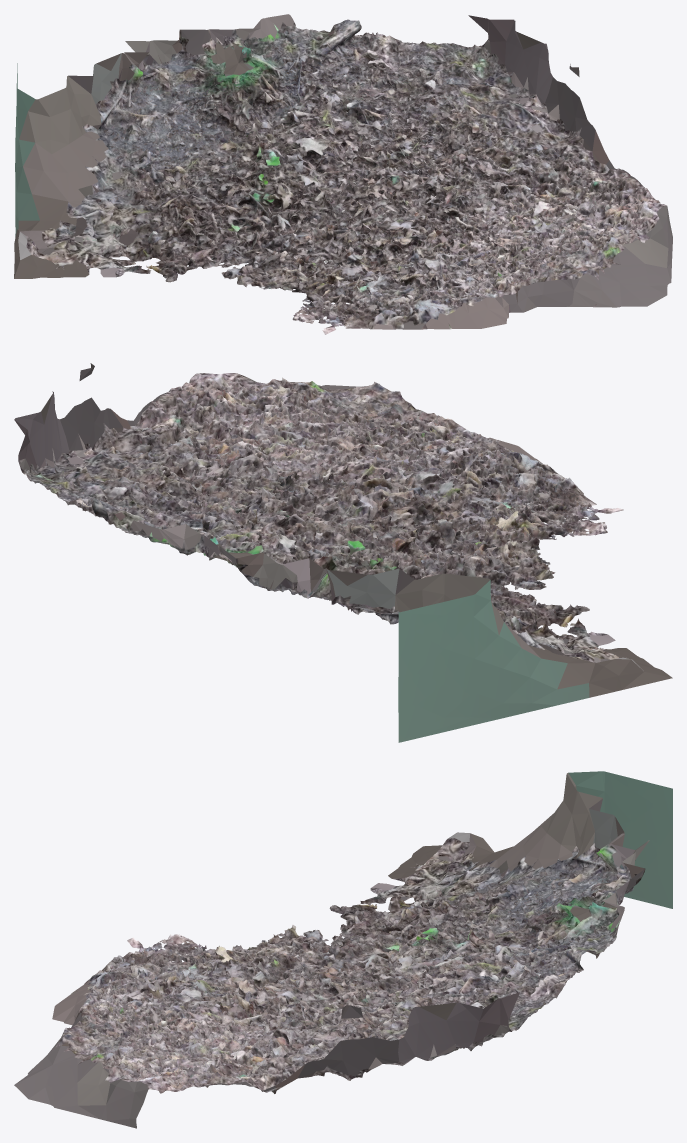
File: forest_floor.glb
3 renders of one model, top to bottom at view 1: azimuth 30°, elevation 25°; view 2: azimuth 150°, elevation 25°; view 3: azimuth 270°, elevation 25°, orthographic. The views are drawn at different scales.
Visible parts, largest first — view 1: Object_4; view 2: Object_4; view 3: Object_4.
Boxes of the visible parts, bbox=[...] form: Object_4: bbox=[14, 14, 672, 334]; Object_4: bbox=[14, 363, 672, 742]; Object_4: bbox=[14, 771, 672, 1128].
Bounding box in the file's own units: 2.08 × 0.4142 × 2.05.
1 material, 1 textured.
